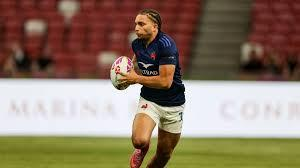ballon_rugby: (110, 56, 134, 90)
